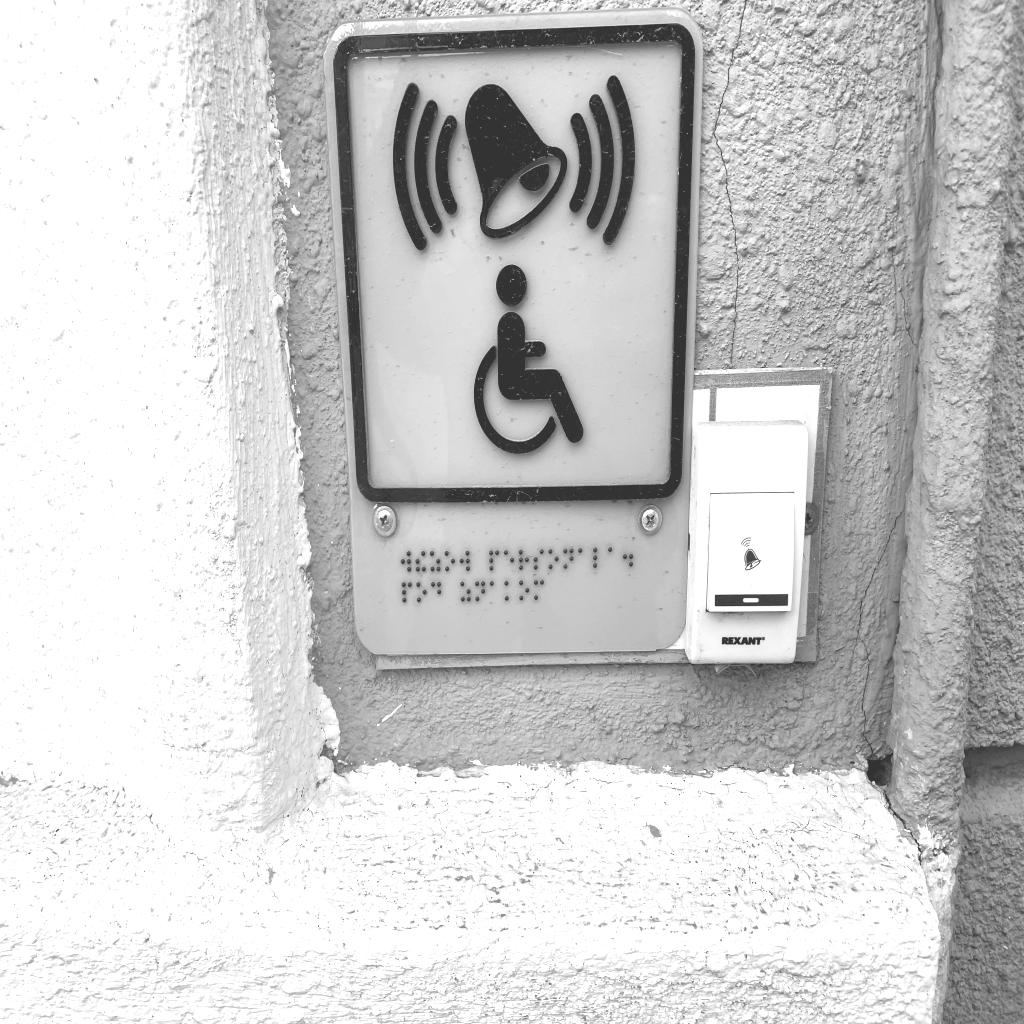_n: (563, 547, 574, 570), (475, 580, 486, 603)
a: (578, 547, 589, 570), (608, 546, 619, 569), (489, 580, 500, 602)
d: (431, 580, 442, 604)
e: (504, 549, 515, 573)
ii: (415, 550, 427, 573)
k: (504, 579, 515, 602)
l: (592, 547, 604, 570)
m: (534, 579, 545, 601)
o: (444, 550, 456, 573), (416, 581, 427, 604), (548, 548, 559, 570), (519, 580, 530, 602)
p: (401, 581, 413, 604), (489, 549, 500, 572)
r: (518, 549, 529, 572)
s: (533, 547, 544, 570)
tochka: (623, 545, 634, 567)
v: (400, 550, 412, 573), (459, 550, 471, 572)
z: (429, 550, 441, 573), (460, 580, 471, 603)
